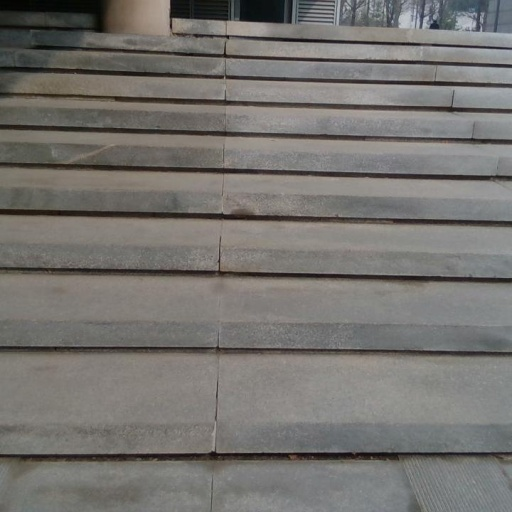Stairs: (0, 16, 512, 512)
